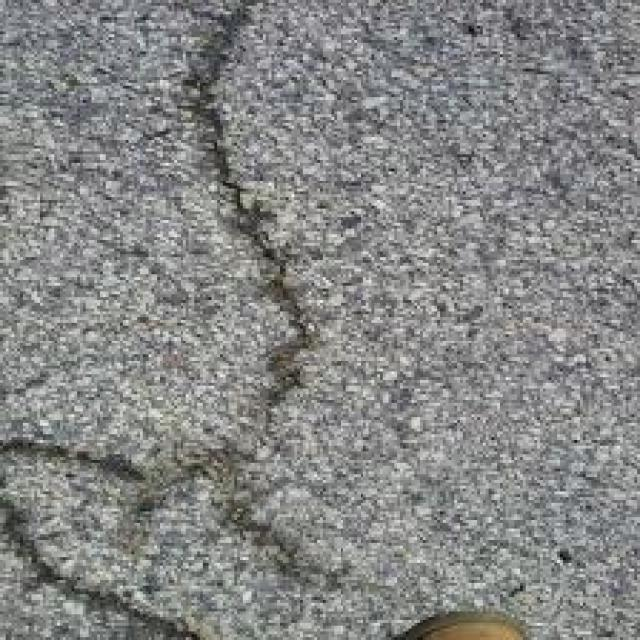crack: (30, 0, 374, 640)
